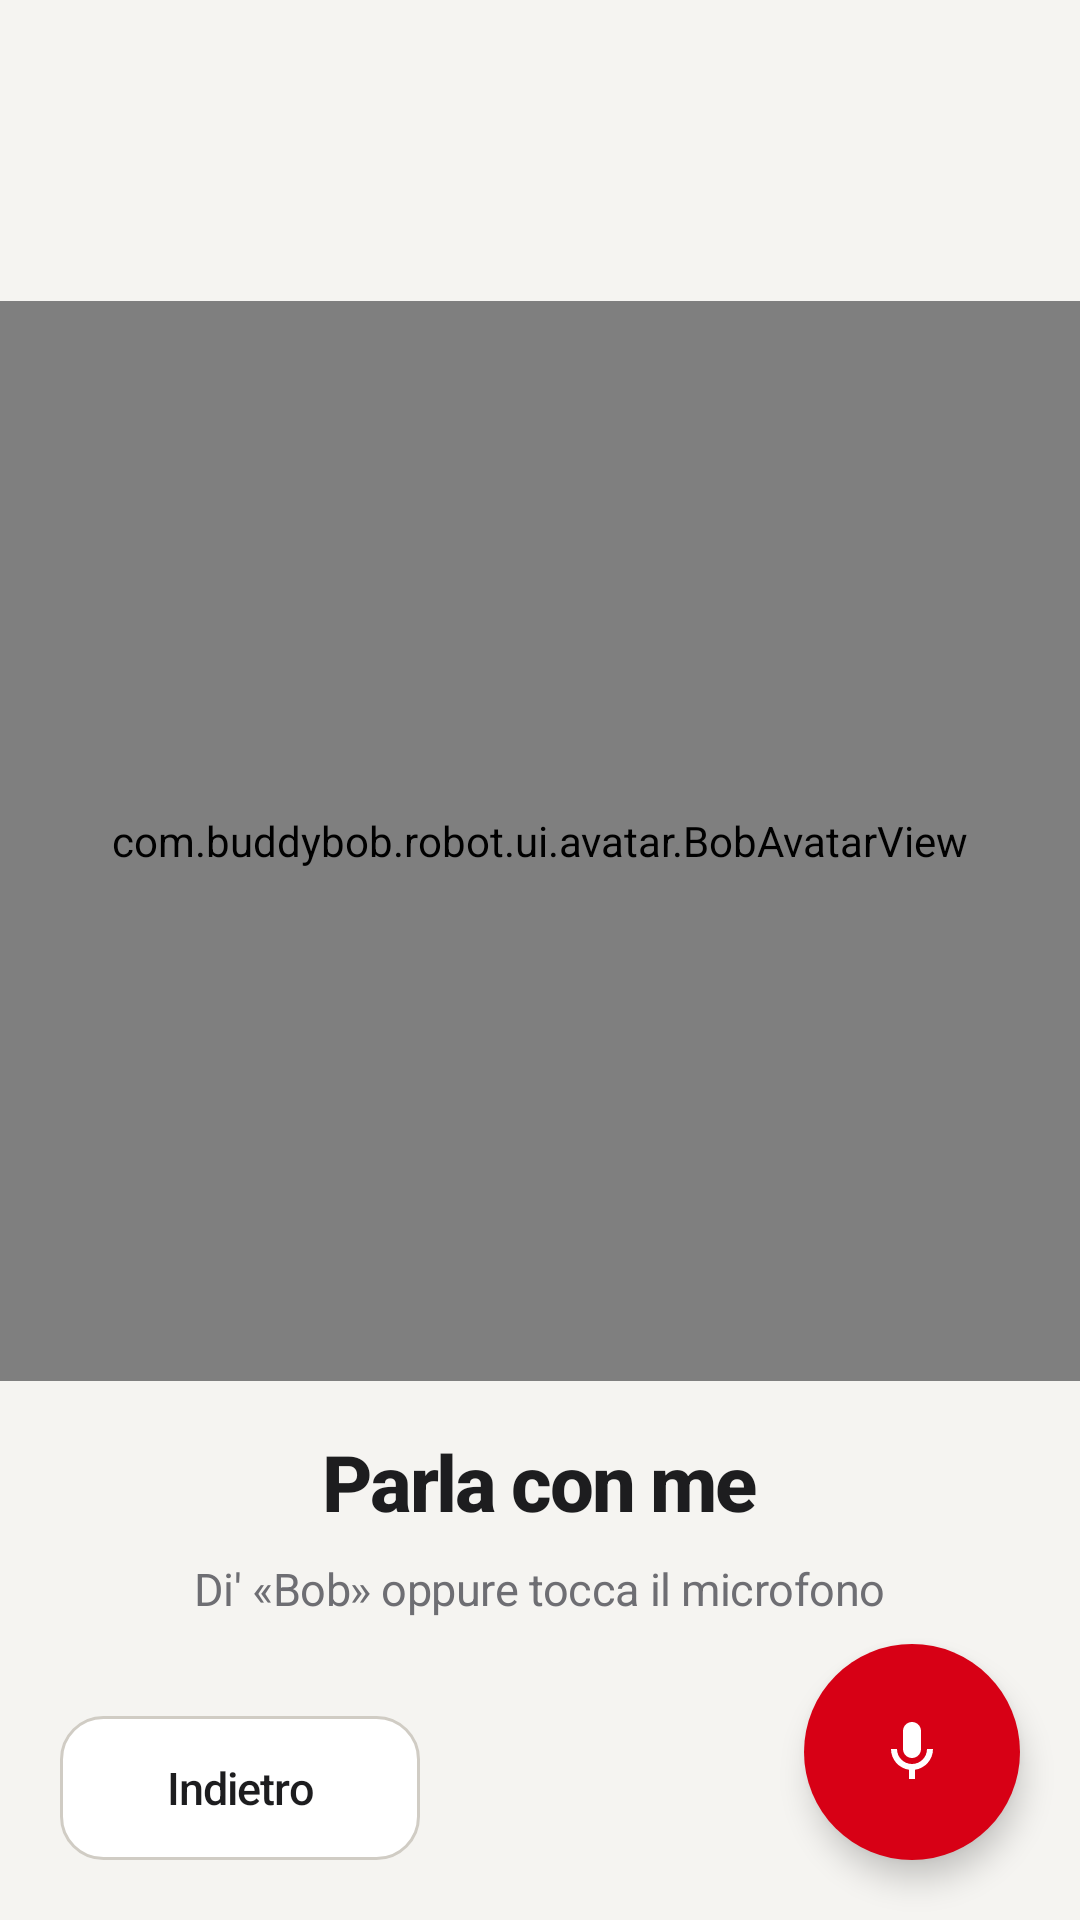

Locate icon controls on the screen. Image size 1080*1920, boxes as box(x1, y1, x2, y2).
Parla con BOB: box(804, 1644, 1020, 1860)
